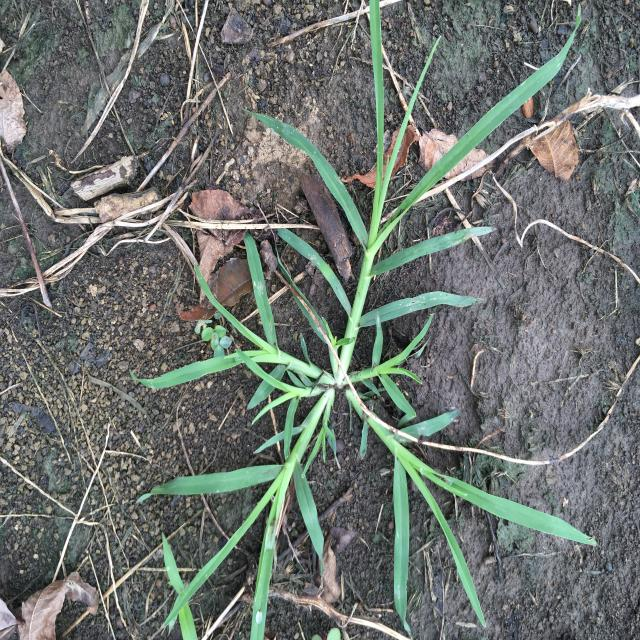Goosegrass: (131, 0, 597, 640)
